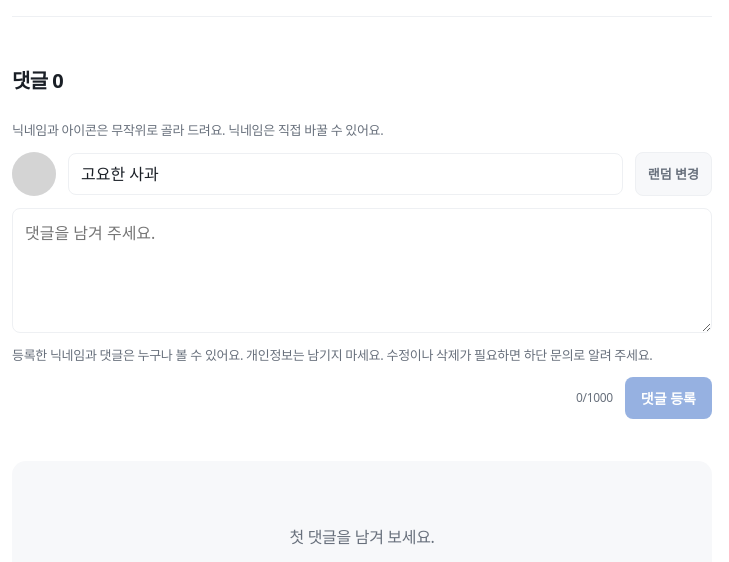
it: CommentsSection identity picker › reveals the whole nickname at once when the reader asks for reduced motion
The width and height of the screenshot is (729, 562).
Clear the field named "닉네임" at (345, 174), box 68,153 -> 623,195
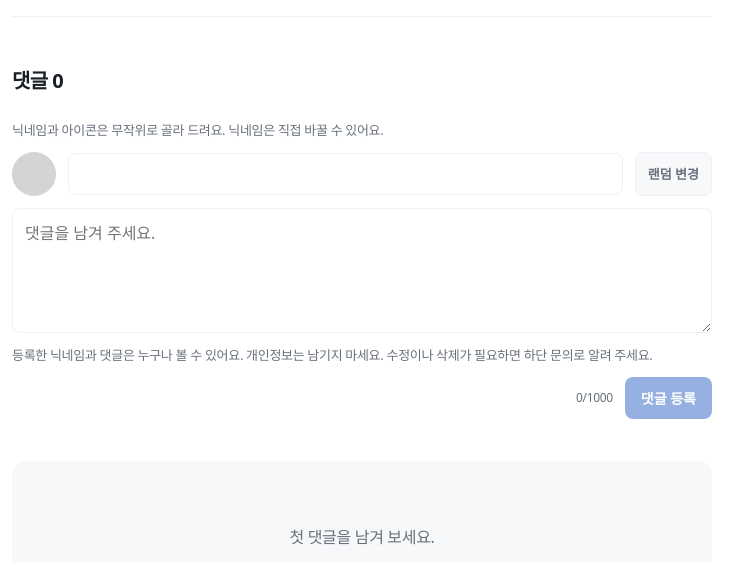
Click the button "랜덤 변경" at (673, 174), box 635,152 -> 712,196
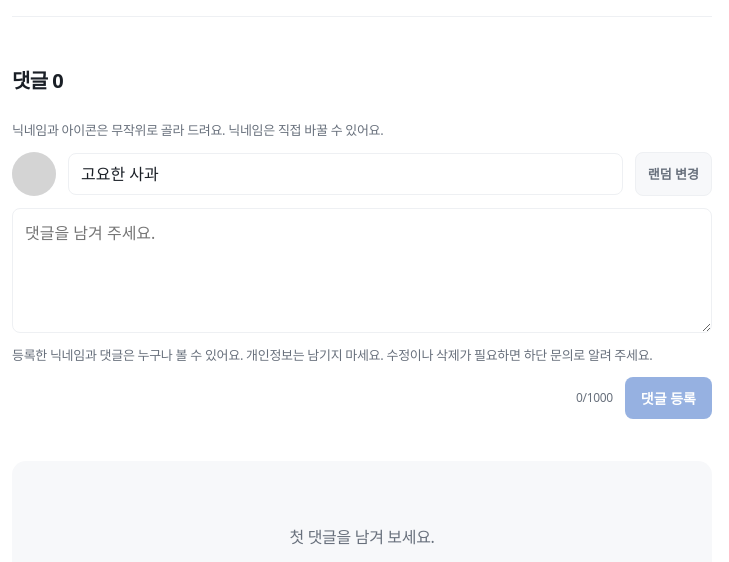
expect the field named "닉네임" holds "고요한 사과": met, box 68,153 -> 623,195
